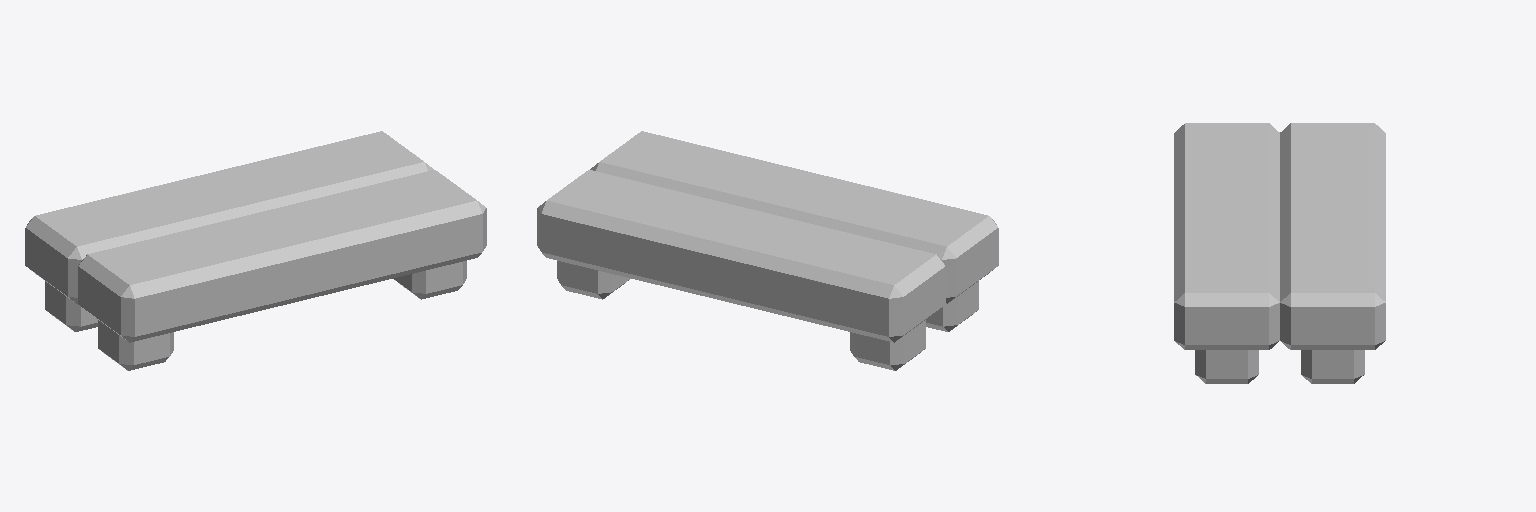
Rendered from bench_B.obj.
3 views of the same model, side by side, from view 1: azimuth 30°, elevation 25°; view 2: azimuth 150°, elevation 25°; view 3: azimuth 270°, elevation 25° (orthographic).
Parts seen in each view (by area): view 1: bench_B; view 2: bench_B; view 3: bench_B.
Part boxes in pixels (x1,y1,x2,y2): bench_B: (25,131,486,370); bench_B: (537,131,998,370); bench_B: (1174,123,1385,383).
Bounding box in the file's own units: 2 × 0.5 × 1.